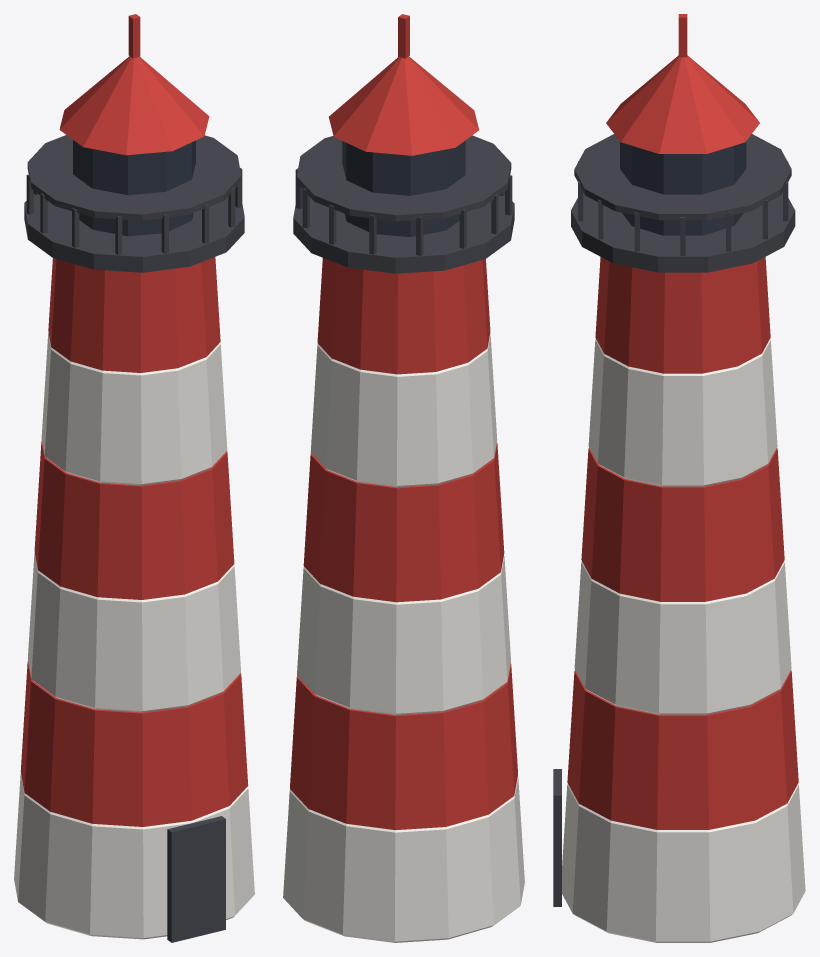
The model's file is Lighthouse.fbx.
The picture shows the model from 3 angles, left to right: view 1: azimuth 30°, elevation 25°; view 2: azimuth 150°, elevation 25°; view 3: azimuth 270°, elevation 25°; orthographic projection.
Parts seen in each view (by area): view 1: Lighthouse_Bands, Lighthouse_Body, Lighthouse_Frame, Lighthouse_Roof, Lighthouse_Windows; view 2: Lighthouse_Body, Lighthouse_Bands, Lighthouse_Frame, Lighthouse_Roof, Lighthouse_Windows; view 3: Lighthouse_Body, Lighthouse_Bands, Lighthouse_Frame, Lighthouse_Roof, Lighthouse_Windows.
Boxes of the visible parts, x1,y1,x2,y2 form: Lighthouse_Bands: [20, 257, 248, 826]; Lighthouse_Body: [14, 333, 254, 939]; Lighthouse_Frame: [24, 135, 244, 942]; Lighthouse_Roof: [59, 14, 209, 155]; Lighthouse_Windows: [73, 140, 195, 236]; Lighthouse_Body: [283, 334, 524, 942]; Lighthouse_Bands: [290, 258, 517, 830]; Lighthouse_Frame: [293, 135, 514, 273]; Lighthouse_Roof: [329, 14, 478, 155]; Lighthouse_Windows: [342, 140, 465, 237]; Lighthouse_Body: [562, 339, 805, 942]; Lighthouse_Bands: [567, 257, 798, 829]; Lighthouse_Frame: [553, 134, 795, 906]; Lighthouse_Roof: [606, 14, 759, 153]; Lighthouse_Windows: [620, 141, 746, 235].
Bounding box in the file's own units: 13.63 × 55.25 × 14.39.
